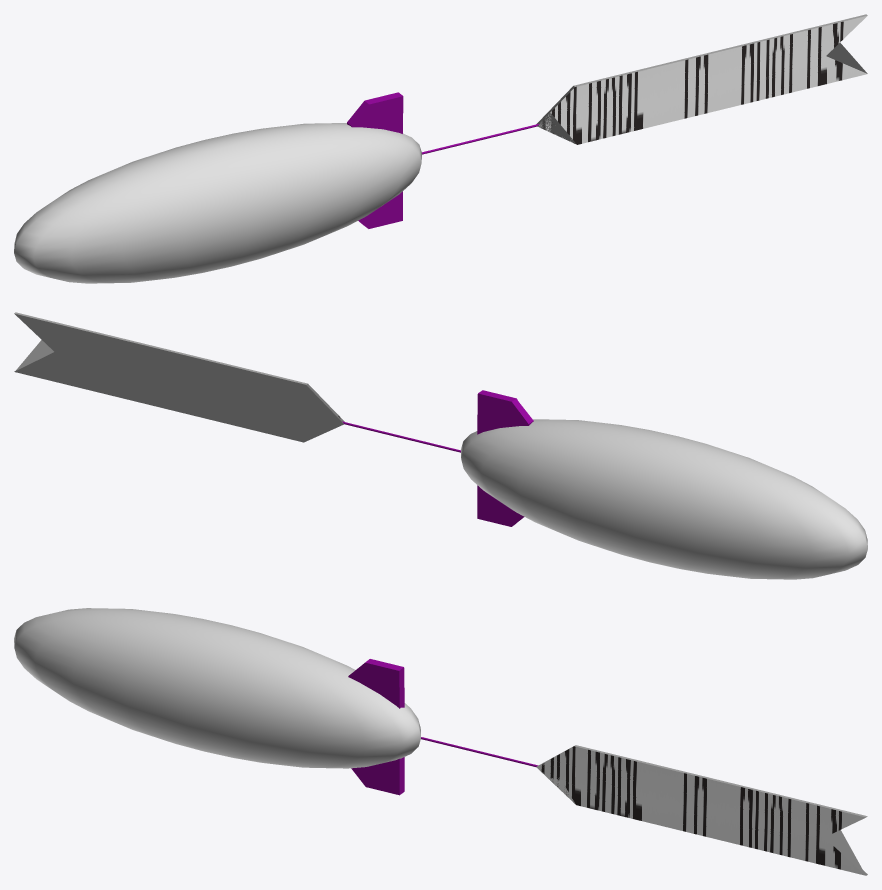
The model's file is Blimp  Prepare to Qualify .fbx.
3 renders of one model, top to bottom at view 1: azimuth 30°, elevation 25°; view 2: azimuth 150°, elevation 25°; view 3: azimuth 330°, elevation 25°, orthographic.
Visible parts, largest first — view 1: Blimp_Body, Banner_Prepare_To_Qualify, Top_Wing, Bottom_Wing; view 2: Blimp_Body, Banner_Prepare_To_Qualify, Top_Wing, Bottom_Wing; view 3: Blimp_Body, Banner_Prepare_To_Qualify, Top_Wing, Bottom_Wing.
Part boxes in pixels (x1=…): Blimp_Body: x1=14, y1=123, x2=421, y2=283; Banner_Prepare_To_Qualify: x1=536, y1=14, x2=867, y2=144; Top_Wing: x1=347, y1=92, x2=403, y2=133; Bottom_Wing: x1=358, y1=191, x2=402, y2=228; Blimp_Body: x1=461, y1=419, x2=867, y2=579; Banner_Prepare_To_Qualify: x1=14, y1=312, x2=344, y2=442; Top_Wing: x1=477, y1=390, x2=533, y2=434; Bottom_Wing: x1=477, y1=485, x2=524, y2=526; Blimp_Body: x1=14, y1=608, x2=421, y2=768; Banner_Prepare_To_Qualify: x1=536, y1=745, x2=867, y2=875; Top_Wing: x1=348, y1=659, x2=404, y2=708; Bottom_Wing: x1=351, y1=757, x2=404, y2=795.
Bounding box in the file's own units: 31.15 × 4.37 × 3.92.
